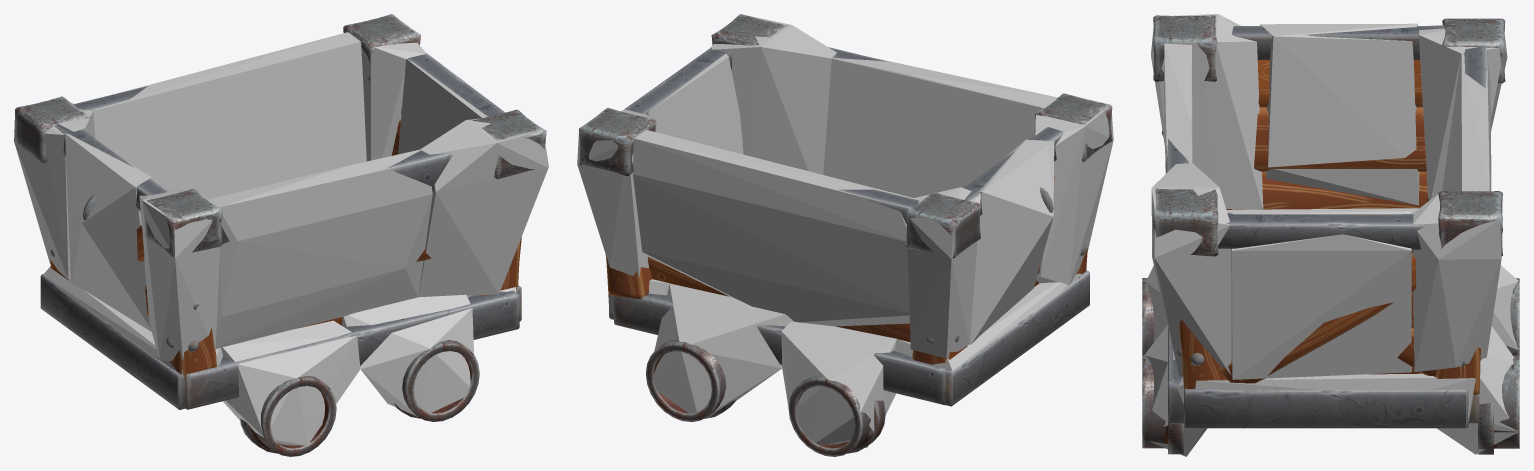
Rendered from SM_Trolley_b.fbx.
3 views of the same model, side by side, from view 1: azimuth 30°, elevation 25°; view 2: azimuth 150°, elevation 25°; view 3: azimuth 270°, elevation 25° (orthographic). The views are drawn at different scales.
Parts seen in each view (by area): view 1: SM_Trolley_b_ConvexHulls, SM_Trolley_b; view 2: SM_Trolley_b_ConvexHulls, SM_Trolley_b; view 3: SM_Trolley_b_ConvexHulls, SM_Trolley_b.
Boxes of the visible parts, box(x1,y1,x2,y2) form: SM_Trolley_b_ConvexHulls: box(14, 32, 548, 445); SM_Trolley_b: box(15, 14, 546, 456); SM_Trolley_b_ConvexHulls: box(577, 15, 1113, 447); SM_Trolley_b: box(579, 14, 1112, 456); SM_Trolley_b_ConvexHulls: box(1144, 14, 1518, 456); SM_Trolley_b: box(1142, 15, 1519, 454).
Size of the model in its own units: 178 by 134 by 115.
Materials: 2 (1 with a texture image).
